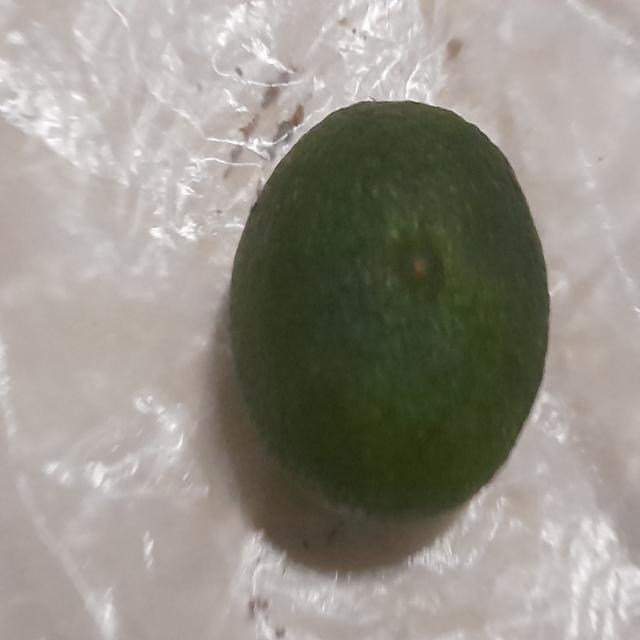heathy: (228, 84, 555, 523)
